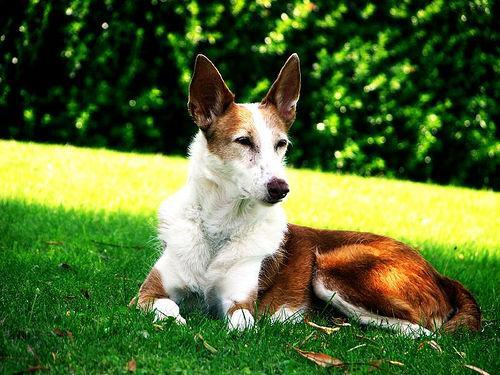Ibizan_hound: (125, 52, 481, 341)
